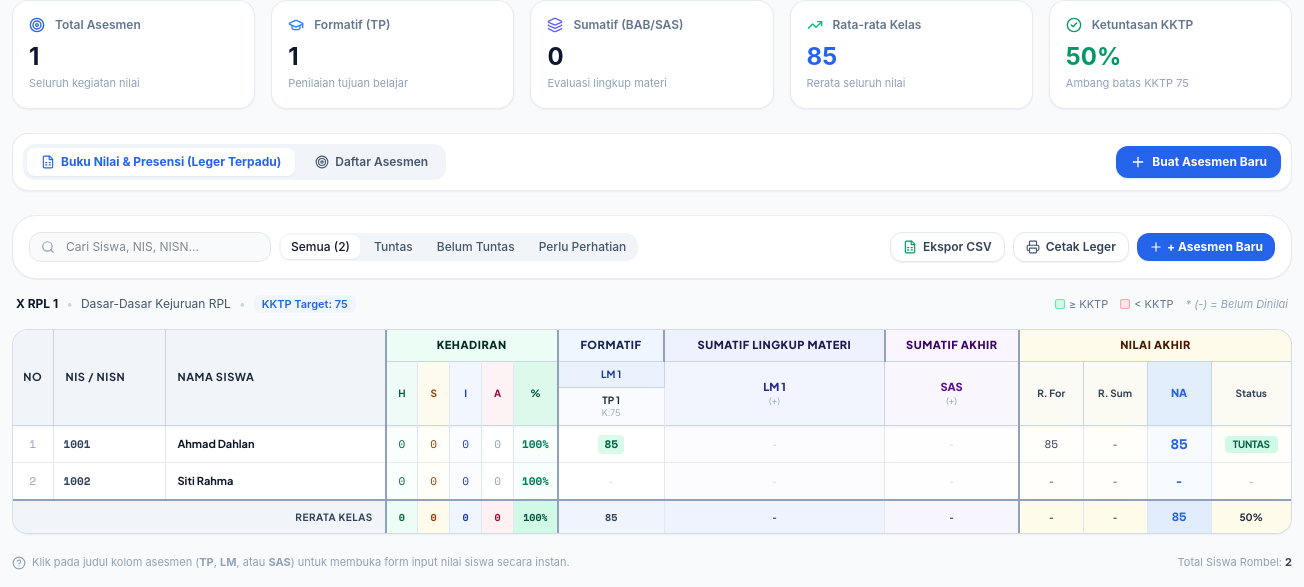
Test: M13 Assessment & Gradebook — Presentation Views (Academic Glass UI) › renders ClassAssessmentTabView summary cards and list of assessments
Click the button "Daftar Asesmen": point(372, 162) [301,148,442,176]
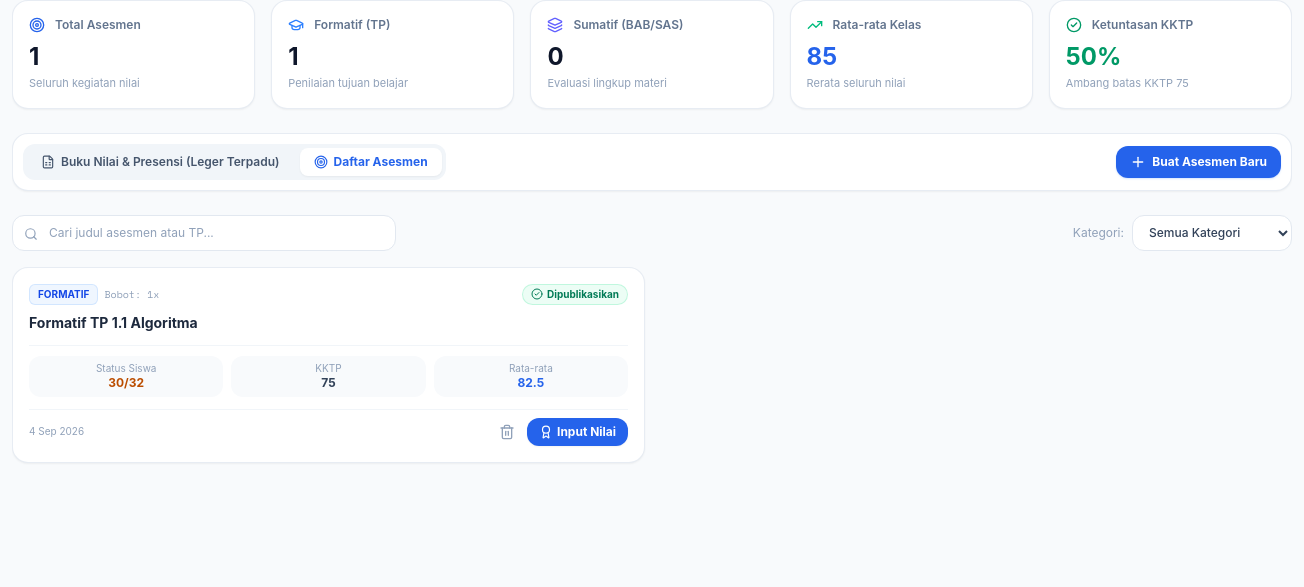
Check: the text "Total Asesmen" is shown, box [29,17,141,33]
Check: the heading "Formatif TP 1.1 Algoritma" is shown, box [29,314,198,330]
Check: the text "Dipublikasikan" is shown, box [522,284,628,304]
